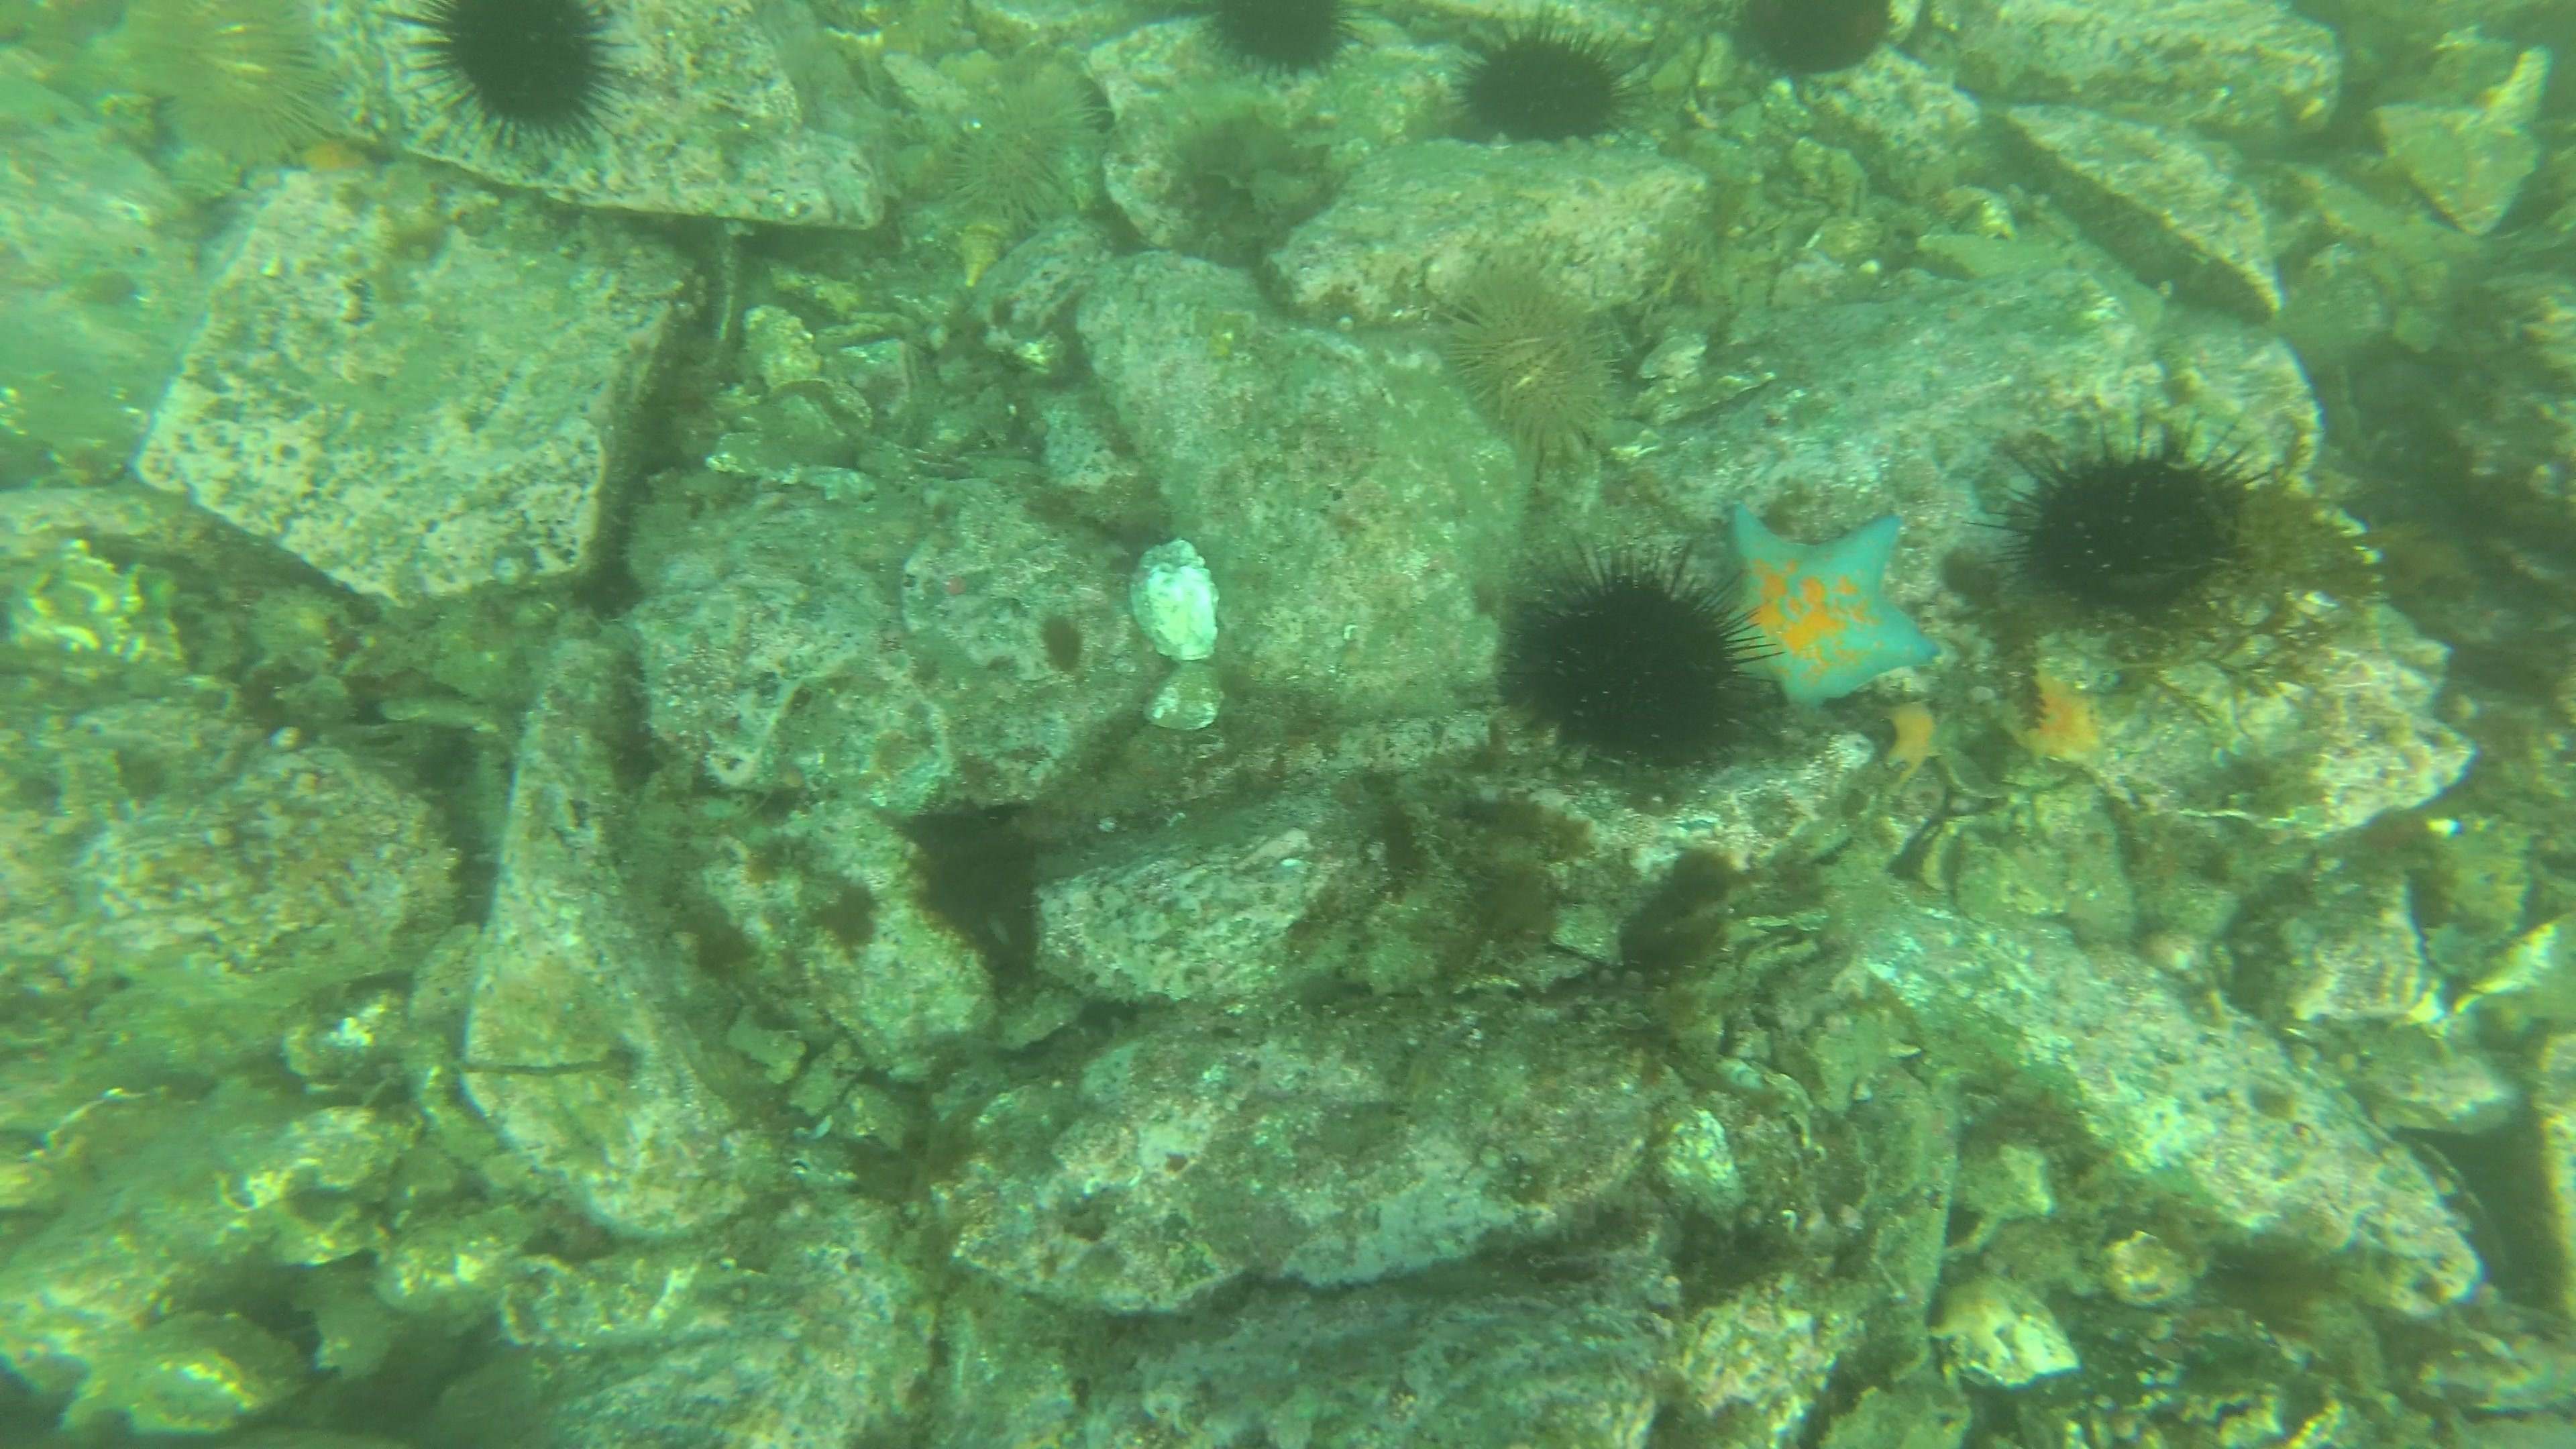echinus: (1493, 547, 1766, 775), (1996, 423, 2259, 614), (1431, 260, 1624, 460), (108, 2, 338, 166), (405, 4, 632, 152), (932, 67, 1097, 235), (1445, 12, 1640, 154), (897, 796, 1049, 955), (1723, 2, 1904, 87), (1194, 2, 1368, 83)
starfish: (1709, 495, 1943, 718), (2017, 663, 2121, 782), (1875, 697, 1946, 770)
